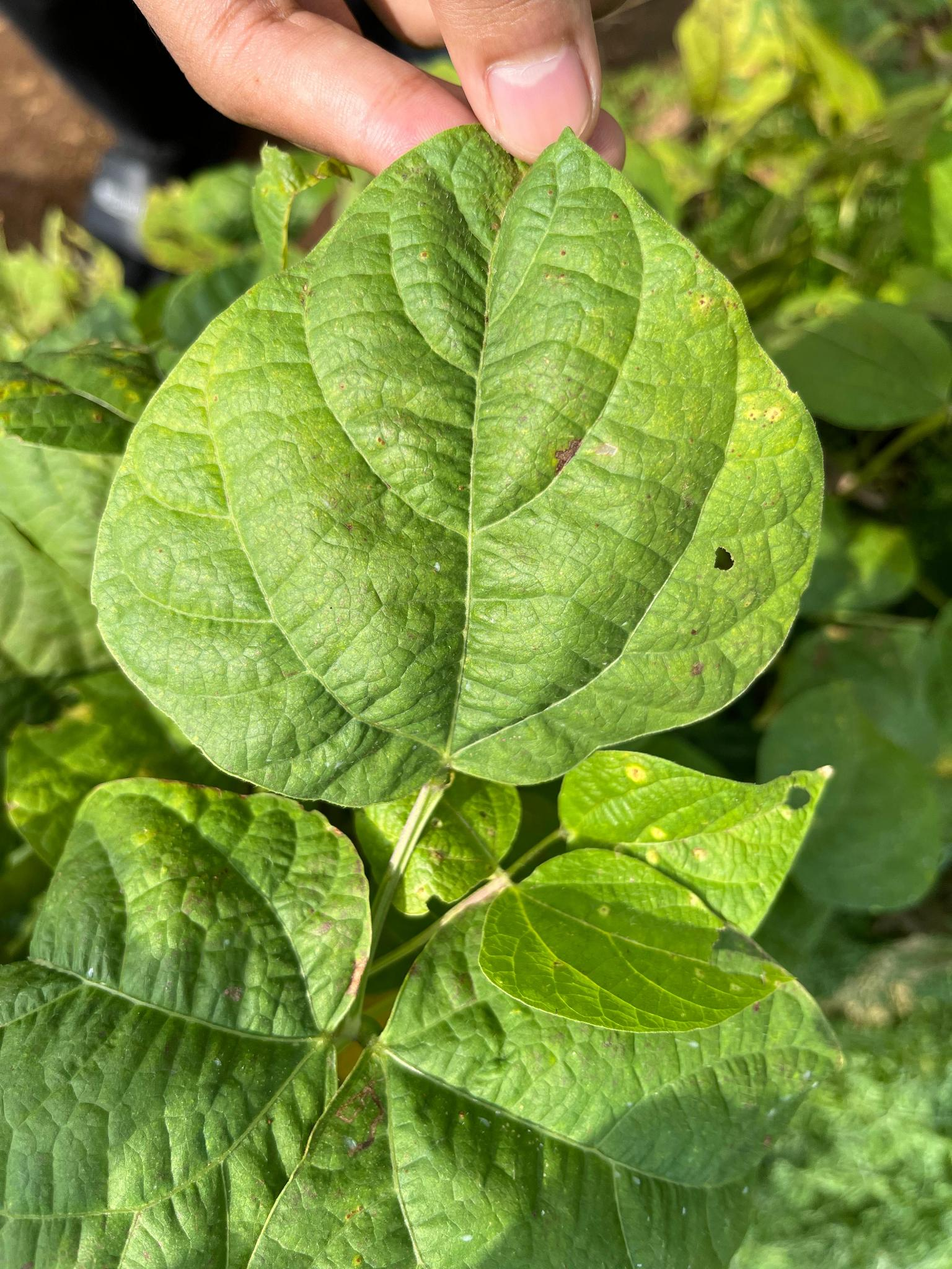mozaik: (674, 502, 789, 615)
